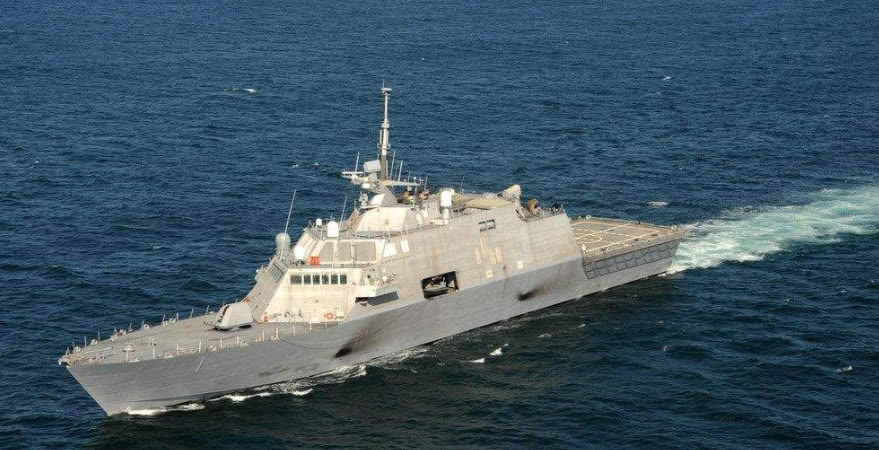warship: (50, 83, 684, 427)
